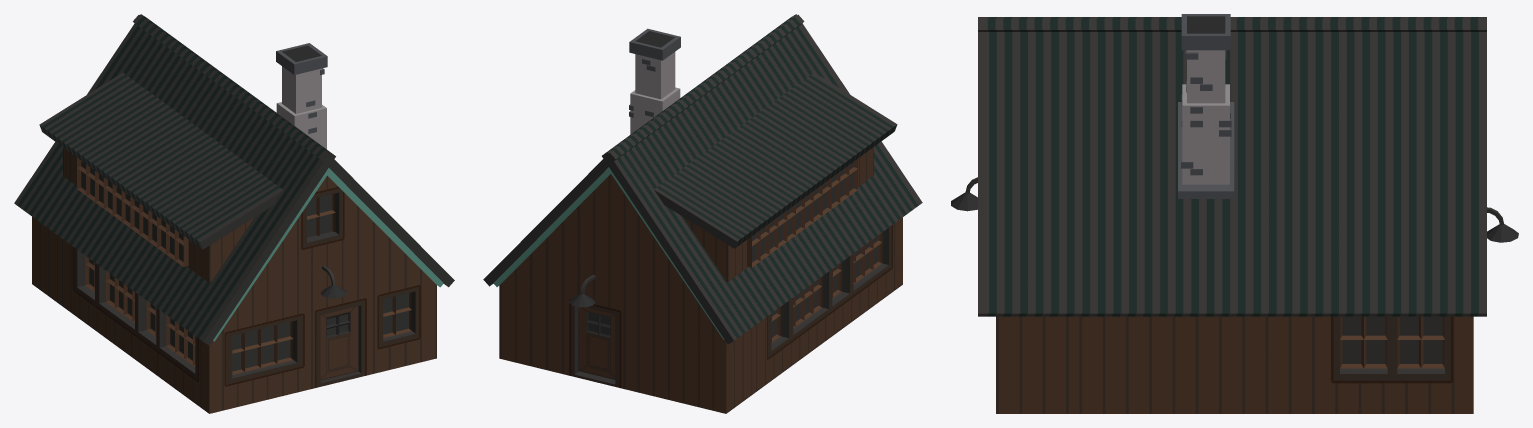
The model's file is VolCabin.obj.
3 views of the same model, side by side, from view 1: azimuth 30°, elevation 25°; view 2: azimuth 150°, elevation 25°; view 3: azimuth 270°, elevation 25° (orthographic). The views are drawn at different scales.
Parts seen in each view (by area): view 1: Cabin.001; view 2: Cabin.001; view 3: Cabin.001.
Boxes of the visible parts, x1,y1,x2,y2 form: Cabin.001: (14, 14, 454, 413); Cabin.001: (483, 14, 922, 413); Cabin.001: (951, 14, 1518, 413).
Size of the model in its own units: 0.6452 by 0.6404 by 0.9374.
